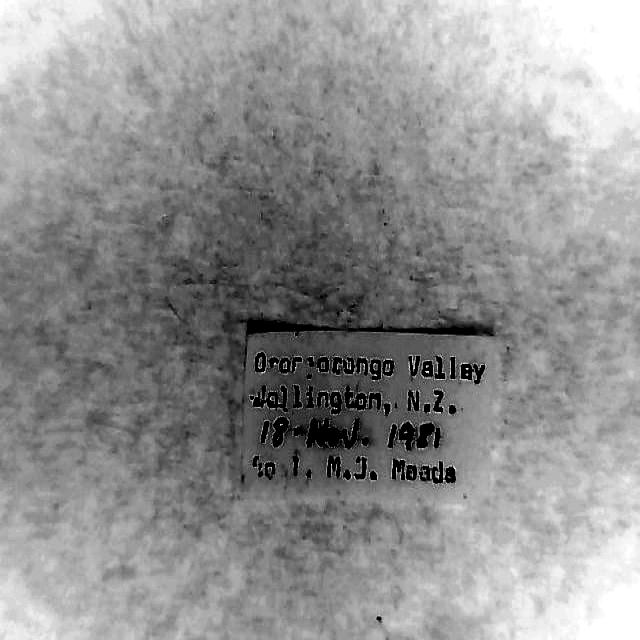mixed_label: (244, 330, 501, 499)
